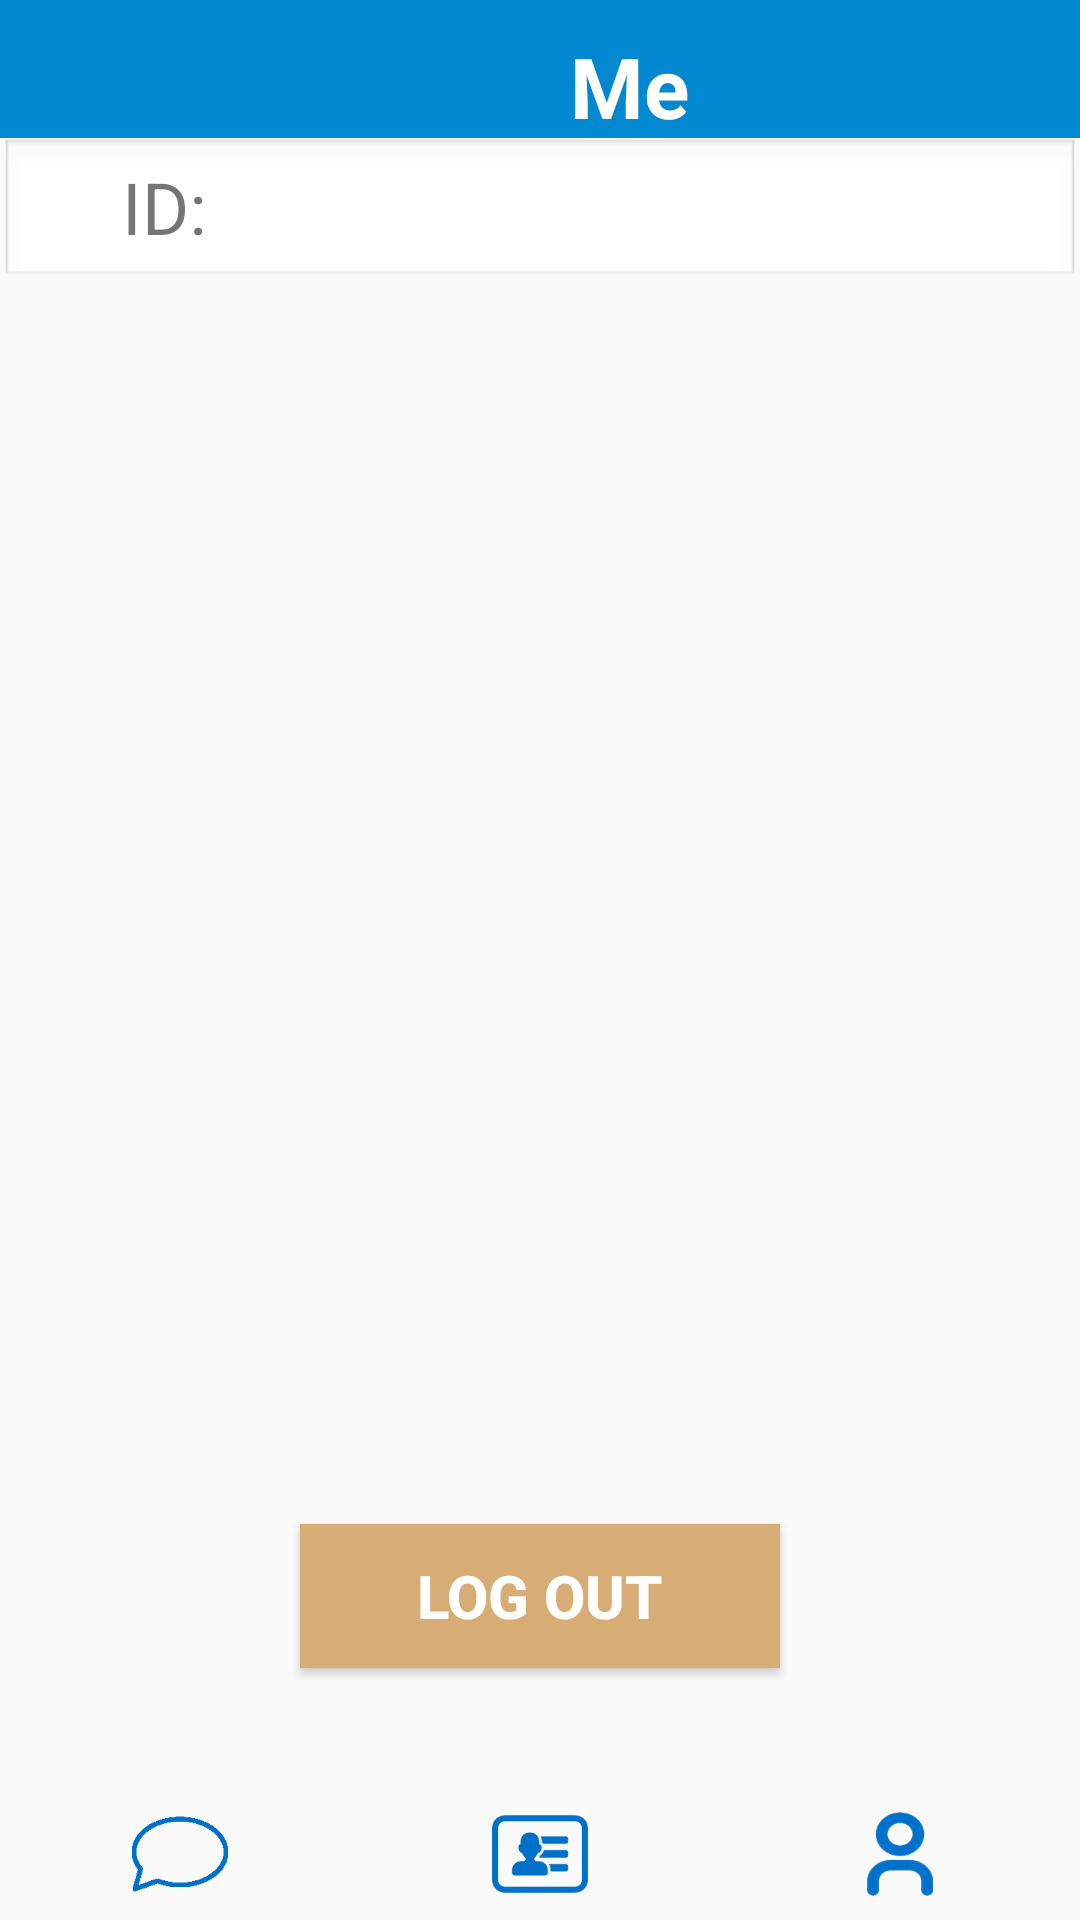

Named icons in this screenshot (1080 × 1920) and their centers, (x=x, y=y):
chat: (x=180, y=1854)
contact: (x=540, y=1854)
